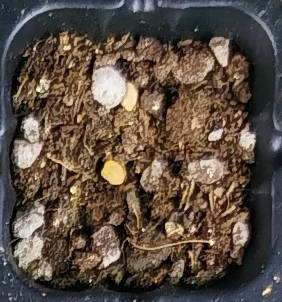pepper seed: (37, 66, 165, 252)
